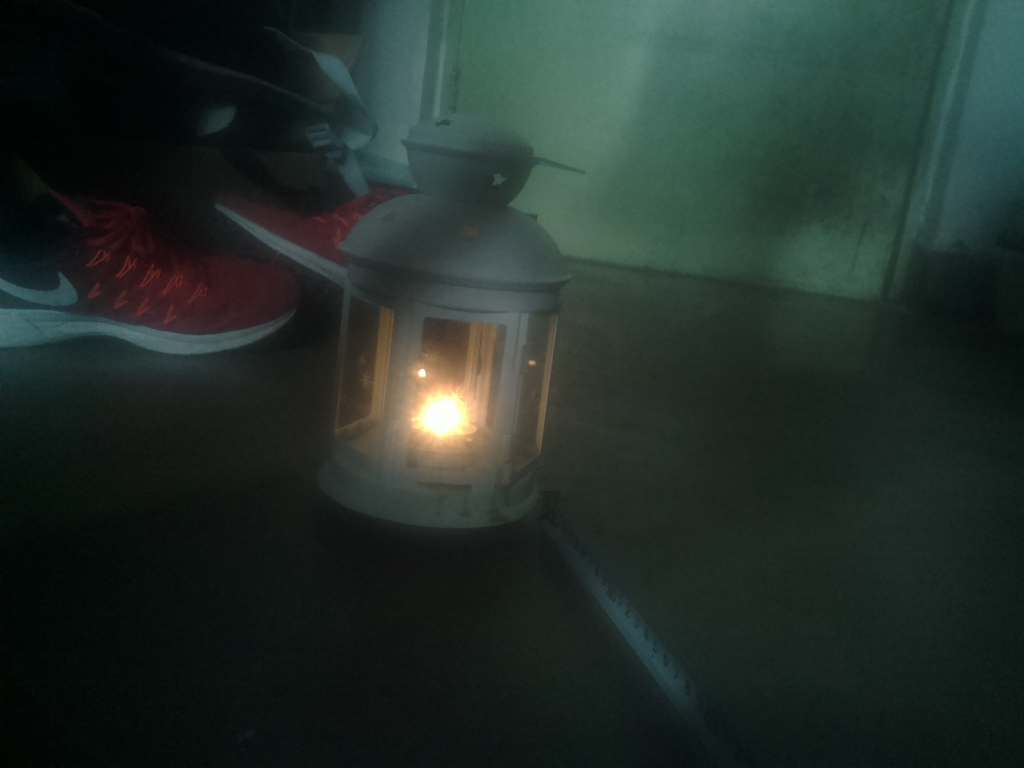fire: (397, 360, 491, 484)
